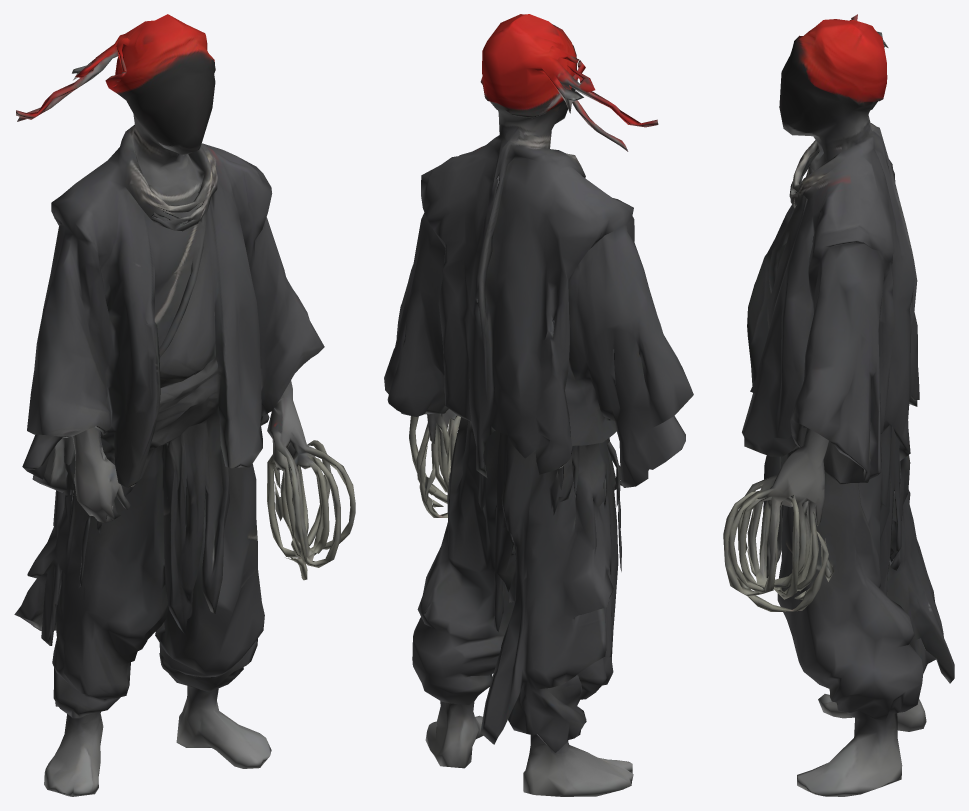
File: boatman_C_h25.glb
3 renders of one model, left to right at view 1: azimuth 30°, elevation 25°; view 2: azimuth 150°, elevation 25°; view 3: azimuth 270°, elevation 25°, orthographic. The views are drawn at different scales.
Parts seen in each view (by area): view 1: tripo_node_6dc91dd2-53b1-42c2-bd74-53ec2ee2565b; view 2: tripo_node_6dc91dd2-53b1-42c2-bd74-53ec2ee2565b; view 3: tripo_node_6dc91dd2-53b1-42c2-bd74-53ec2ee2565b.
Boxes of the visible parts, box(x1,y1,x2,y2) form: tripo_node_6dc91dd2-53b1-42c2-bd74-53ec2ee2565b: box(14, 14, 355, 796); tripo_node_6dc91dd2-53b1-42c2-bd74-53ec2ee2565b: box(384, 14, 693, 796); tripo_node_6dc91dd2-53b1-42c2-bd74-53ec2ee2565b: box(723, 14, 954, 796).
Size of the model in its own units: 0.4074 by 1 by 0.2875.
1 material, 1 textured.
